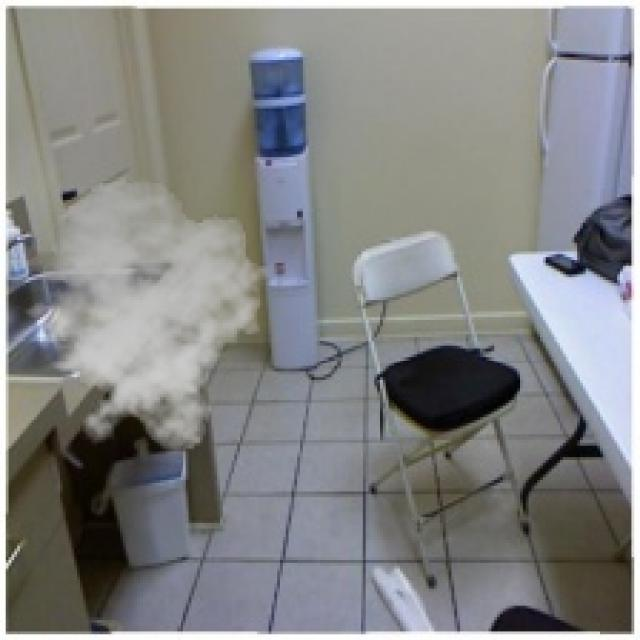smoke: (12, 177, 277, 454)
